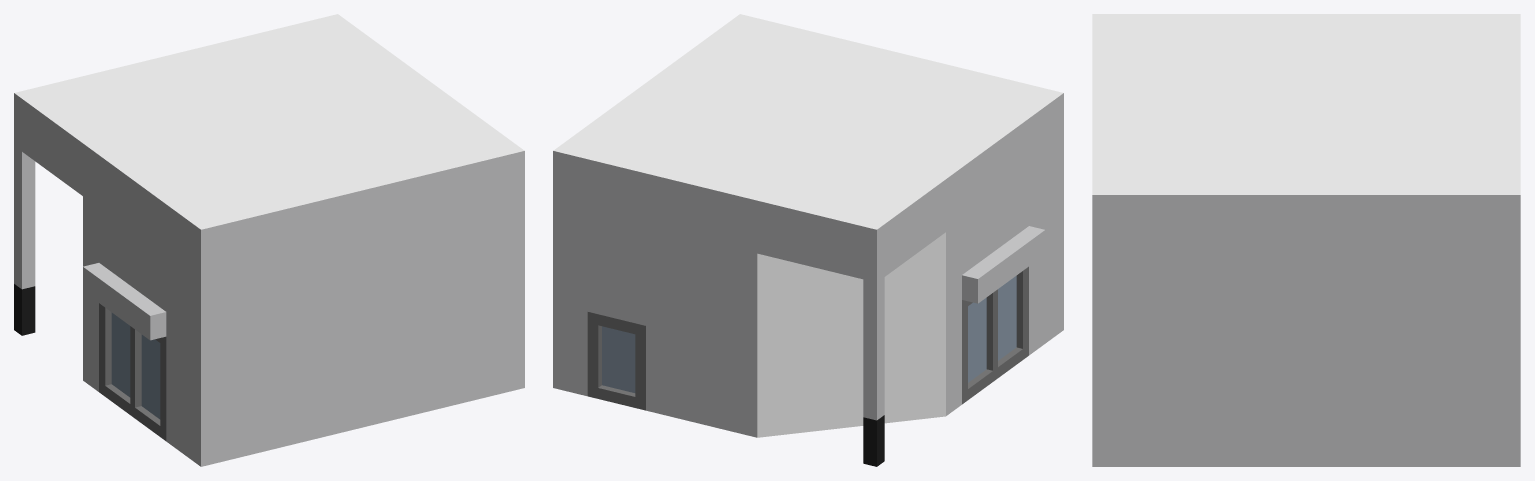
The model's file is Garage3.fbx.
3 views of the same model, side by side, from view 1: azimuth 30°, elevation 25°; view 2: azimuth 150°, elevation 25°; view 3: azimuth 270°, elevation 25° (orthographic). The views are drawn at different scales.
Parts seen in each view (by area): view 1: pitsGarageCorner; view 2: pitsGarageCorner; view 3: pitsGarageCorner.
Boxes of the visible parts, box(x1,y1,x2,y2) form: pitsGarageCorner: box(14, 14, 524, 466); pitsGarageCorner: box(553, 14, 1063, 466); pitsGarageCorner: box(1092, 14, 1520, 466).
Size of the model in its own units: 1050 by 700 by 1000.
